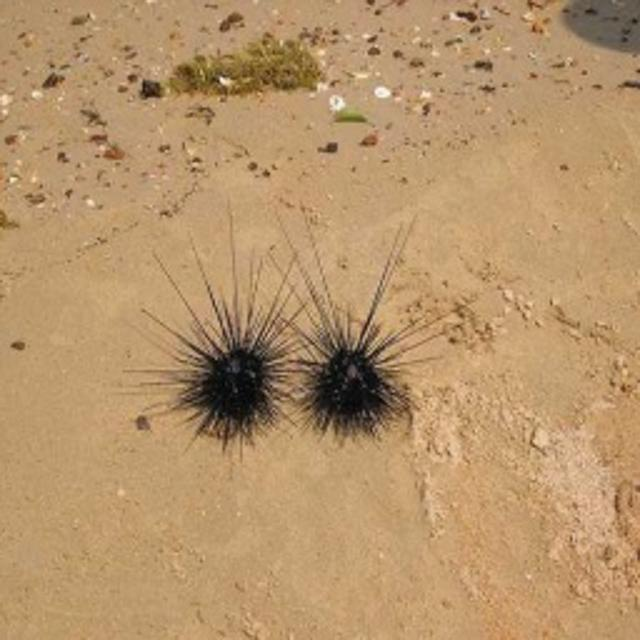Urchin: (276, 210, 465, 440), (138, 210, 314, 447)
